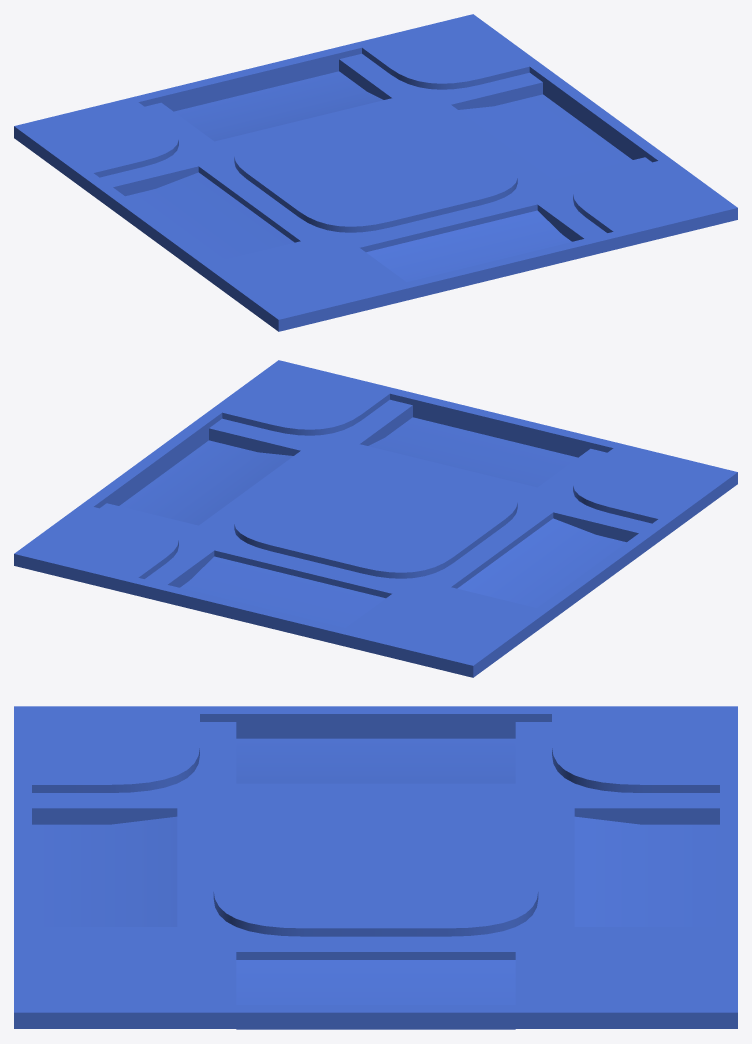
The model's file is Ceiling_4x4m_B.FBX.
The picture shows the model from 3 angles, top to bottom: view 1: azimuth 30°, elevation 25°; view 2: azimuth 150°, elevation 25°; view 3: azimuth 270°, elevation 25°; orthographic projection. The views are drawn at different scales.
Parts seen in each view (by area): view 1: Ceiling_4x4m_B; view 2: Ceiling_4x4m_B; view 3: Ceiling_4x4m_B.
Part boxes in pixels (<box>): Ceiling_4x4m_B: <box>14,14,737,331</box>; Ceiling_4x4m_B: <box>14,360,737,677</box>; Ceiling_4x4m_B: <box>14,706,737,1029</box>.
Bounding box in the file's own units: 401 × 15 × 400.
